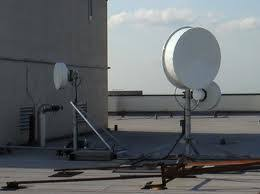ba: (155, 20, 228, 107), (46, 56, 75, 94)
